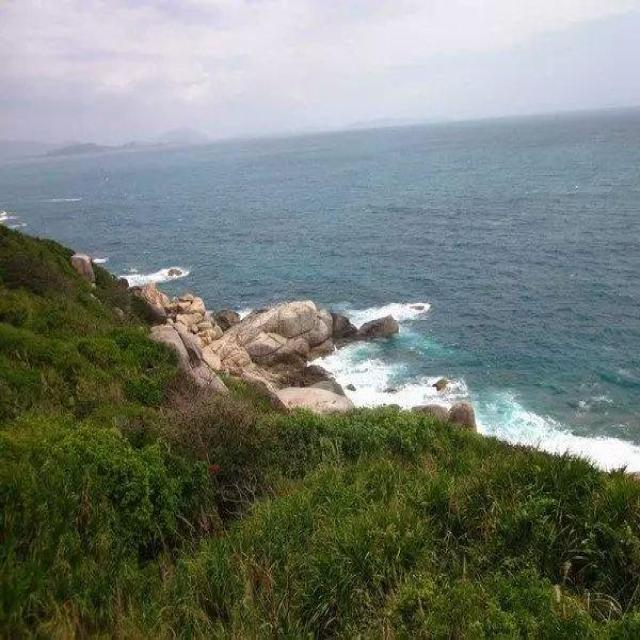reef: (206, 273, 382, 408)
